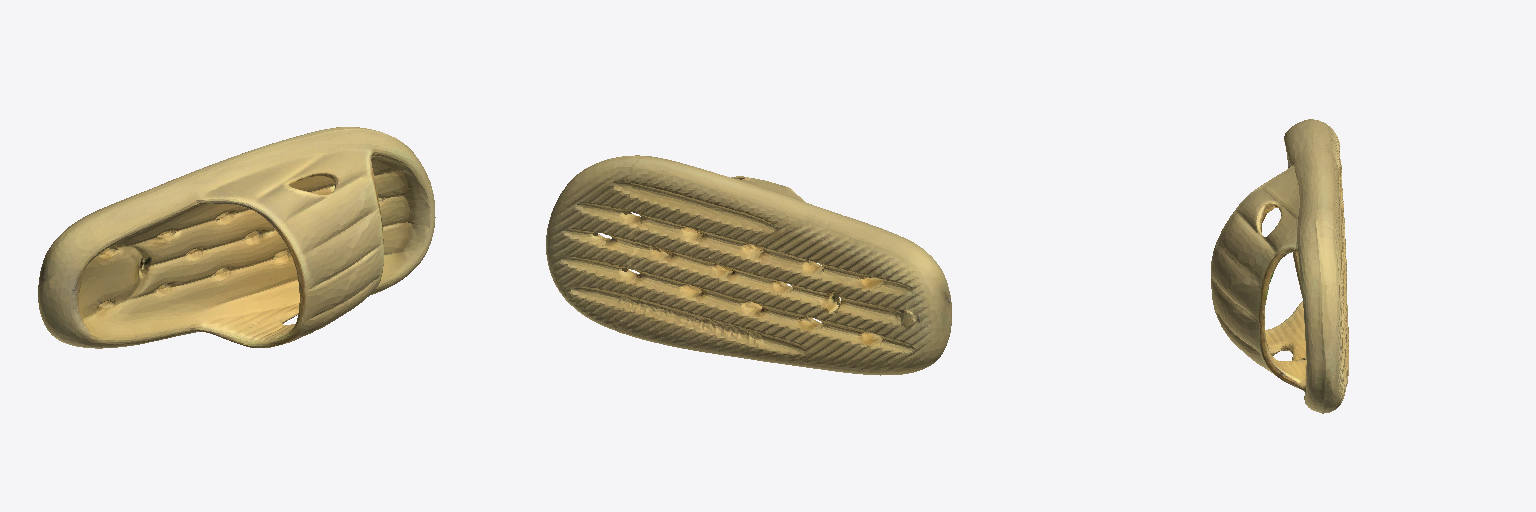
3 views of the same model, side by side, from view 1: azimuth 30°, elevation 25°; view 2: azimuth 150°, elevation 25°; view 3: azimuth 270°, elevation 25° (orthographic).
Size of the model in its own units: 261 by 111 by 78.91.
1 materials, 1 textured.